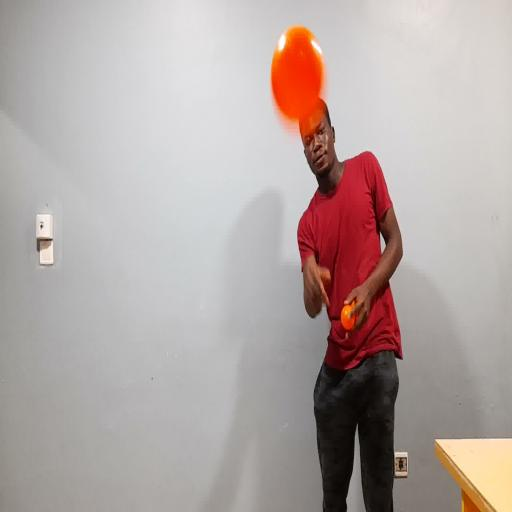plastic-ball: (267, 24, 330, 140)
